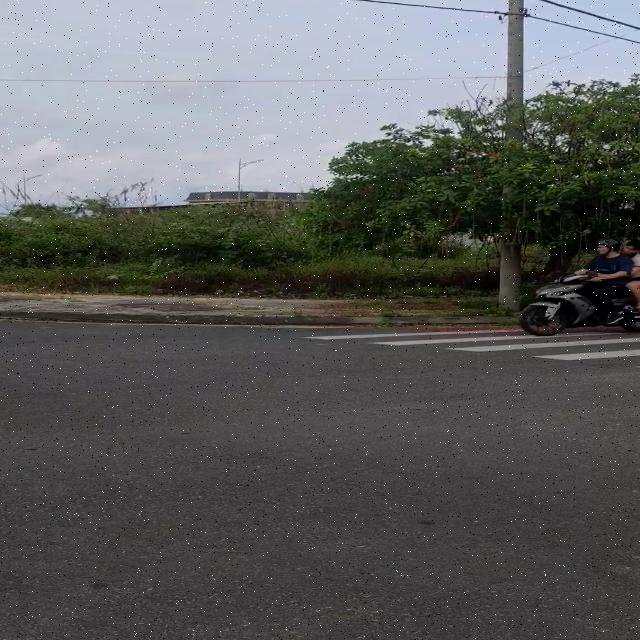helmet: (594, 238, 621, 260)
